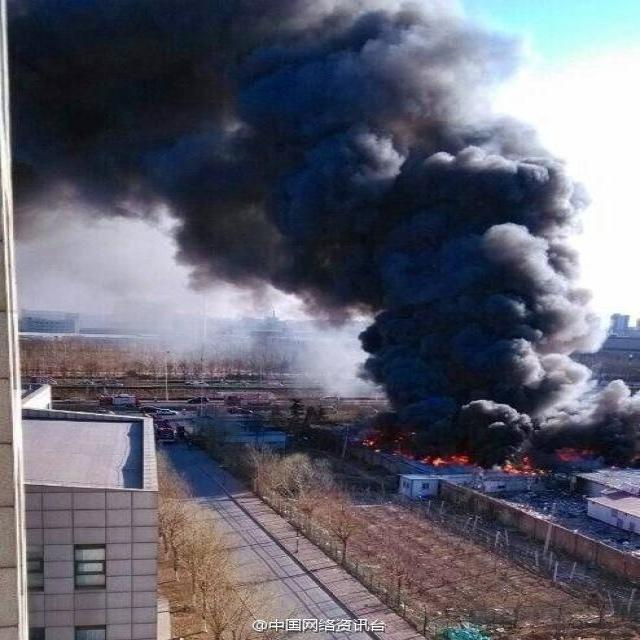Fire: (502, 455, 540, 475), (418, 454, 472, 465)
Smoke: (9, 1, 640, 470)
